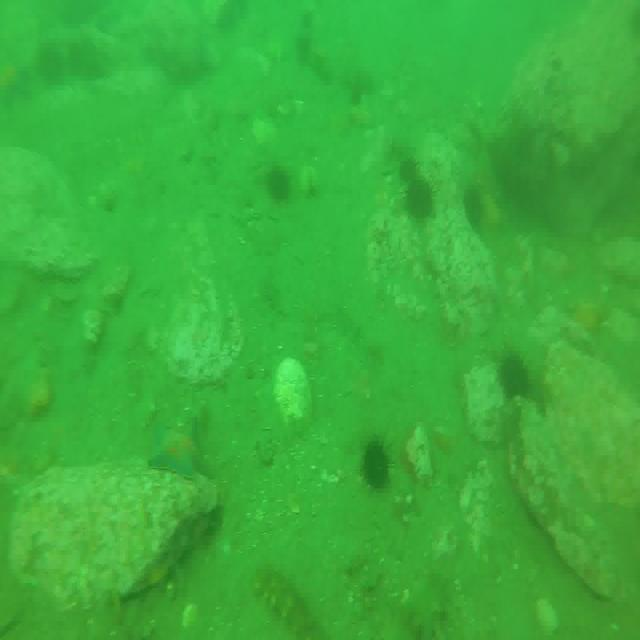echinus: (361, 435, 390, 495), (499, 354, 526, 405), (407, 177, 432, 221), (269, 168, 293, 204)
holothurian: (252, 556, 328, 640)
starfish: (148, 421, 215, 482)
